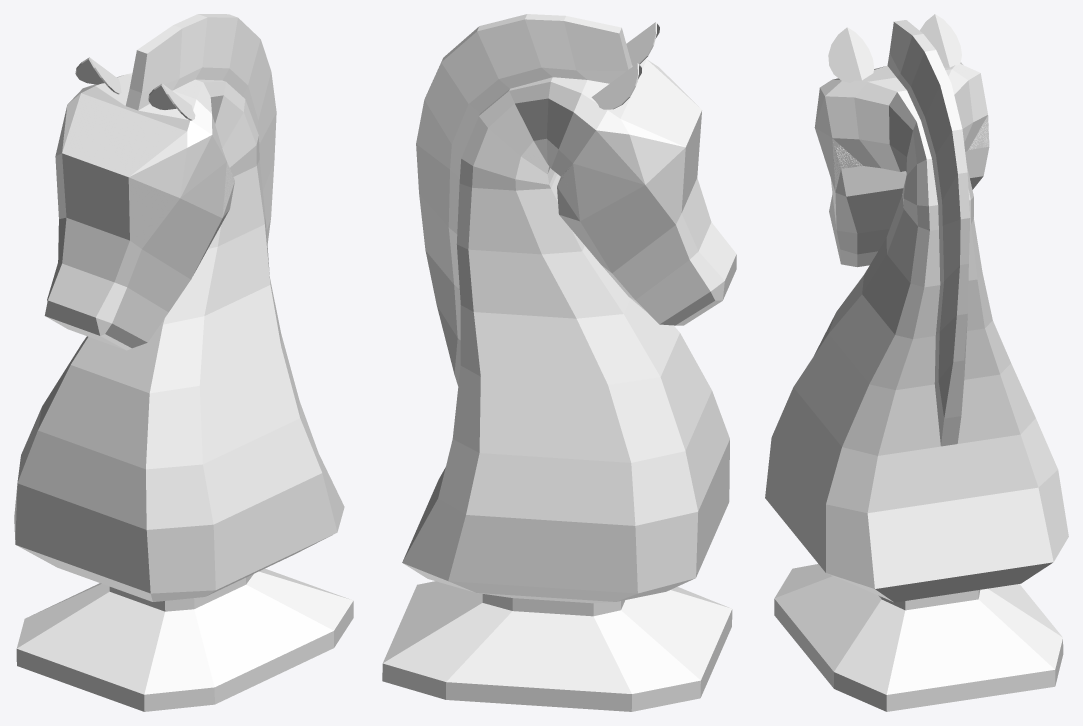
Rendered from white_horse_v2.gltf.
3 views of the same model, side by side, from view 1: azimuth 30°, elevation 25°; view 2: azimuth 150°, elevation 25°; view 3: azimuth 270°, elevation 25° (orthographic). The views are drawn at different scales.
Visible parts, largest first — view 1: Simple Horse.w; view 2: Simple Horse.w; view 3: Simple Horse.w.
Part boxes in pixels (left/top/right/bottom): Simple Horse.w: left=14, top=14, right=353, bottom=711; Simple Horse.w: left=382, top=14, right=736, bottom=711; Simple Horse.w: left=765, top=14, right=1068, bottom=711.
Bounding box in the file's own units: 0.7763 × 1.5 × 0.6853.
1 material, 1 textured.
